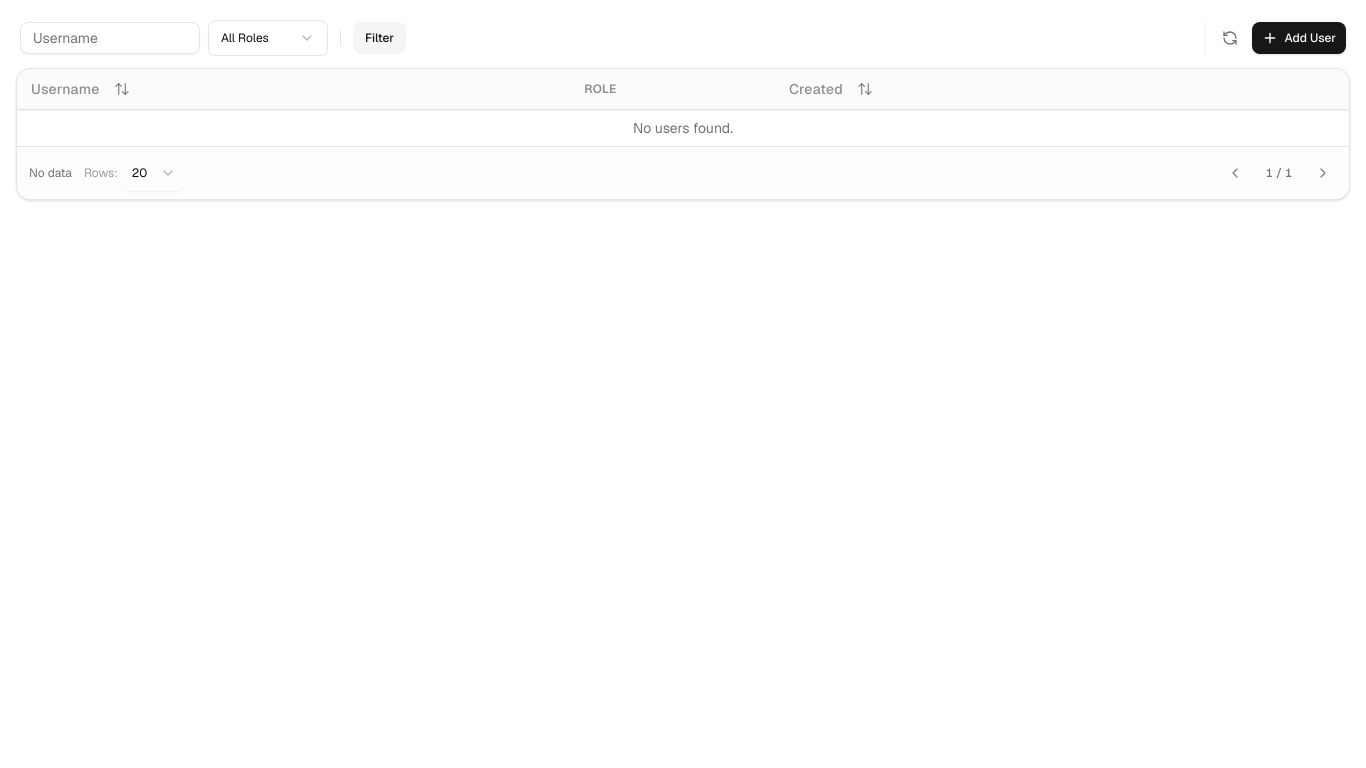
UsersPage — admin-only gating › opens the create-user dialog when an admin clicks 'Add User'
Click the button "Add User" at [1299, 38], box [1252,22,1346,54]
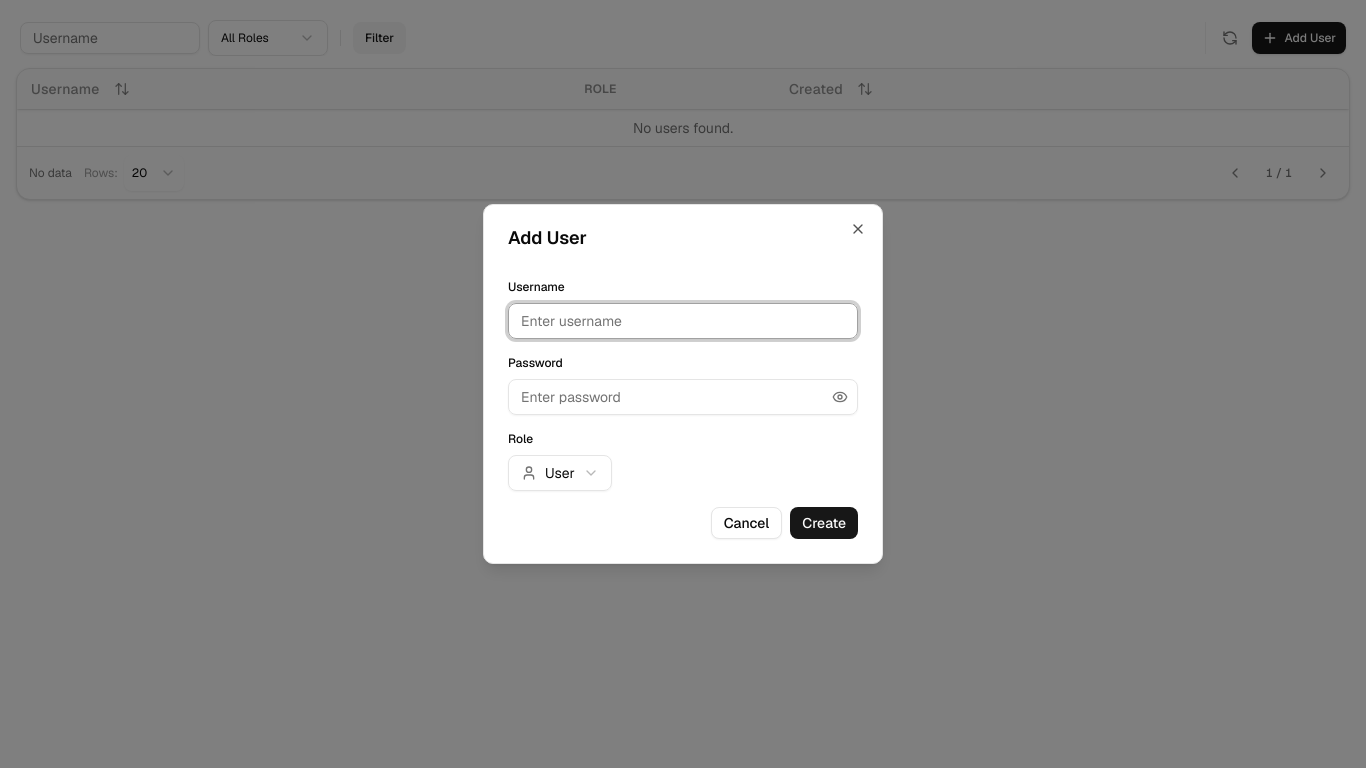
Check: the heading "Add User" is shown, box [508,226,587,249]
